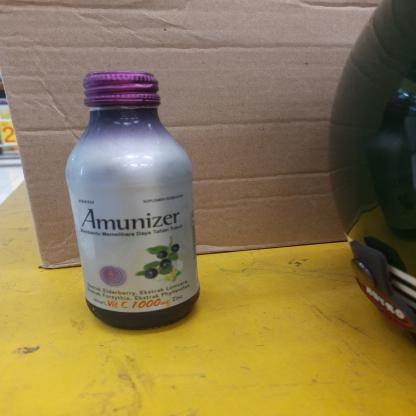keyboard: (64, 64, 202, 328)
